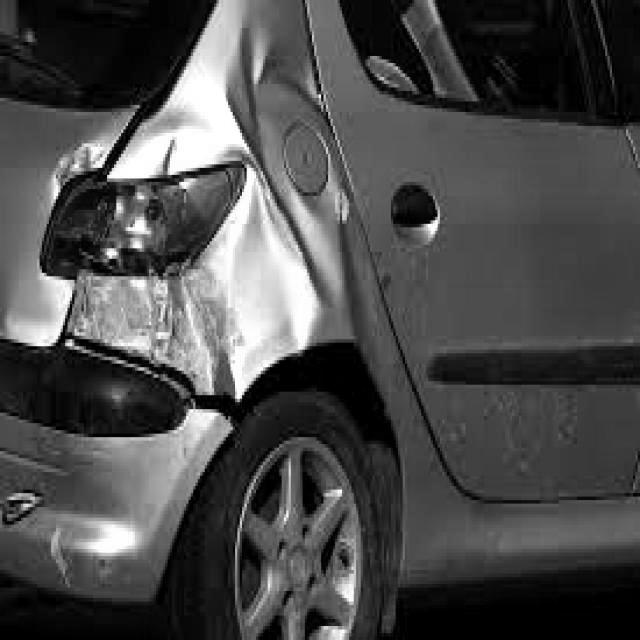Taillight-Damage: (32, 152, 249, 280)
quaterpanel-dent: (141, 63, 332, 479)
